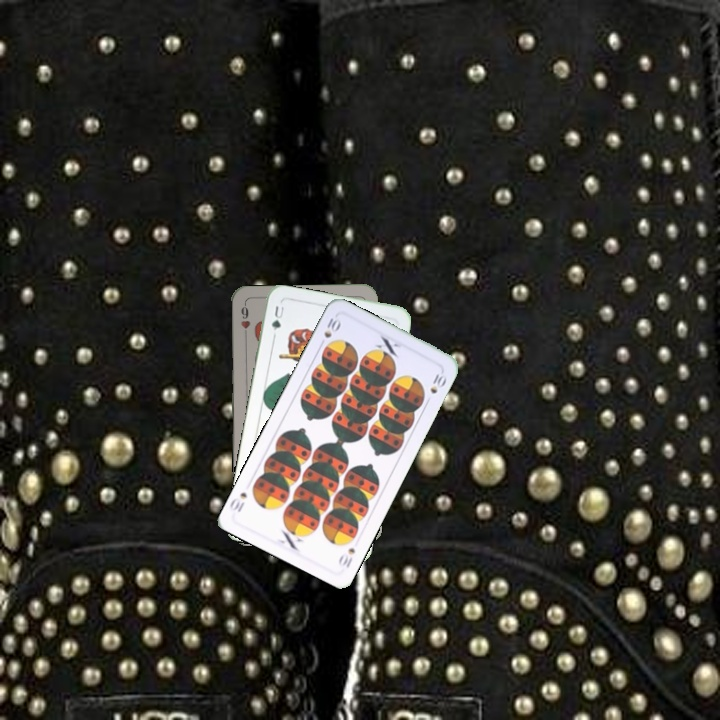GU: (267, 302, 287, 333)
H9: (237, 301, 253, 341)
S10: (315, 312, 344, 349), (334, 544, 358, 570)
